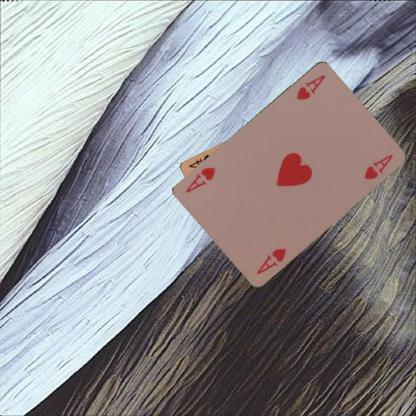Ah: (254, 245, 288, 276), (294, 71, 326, 101)
